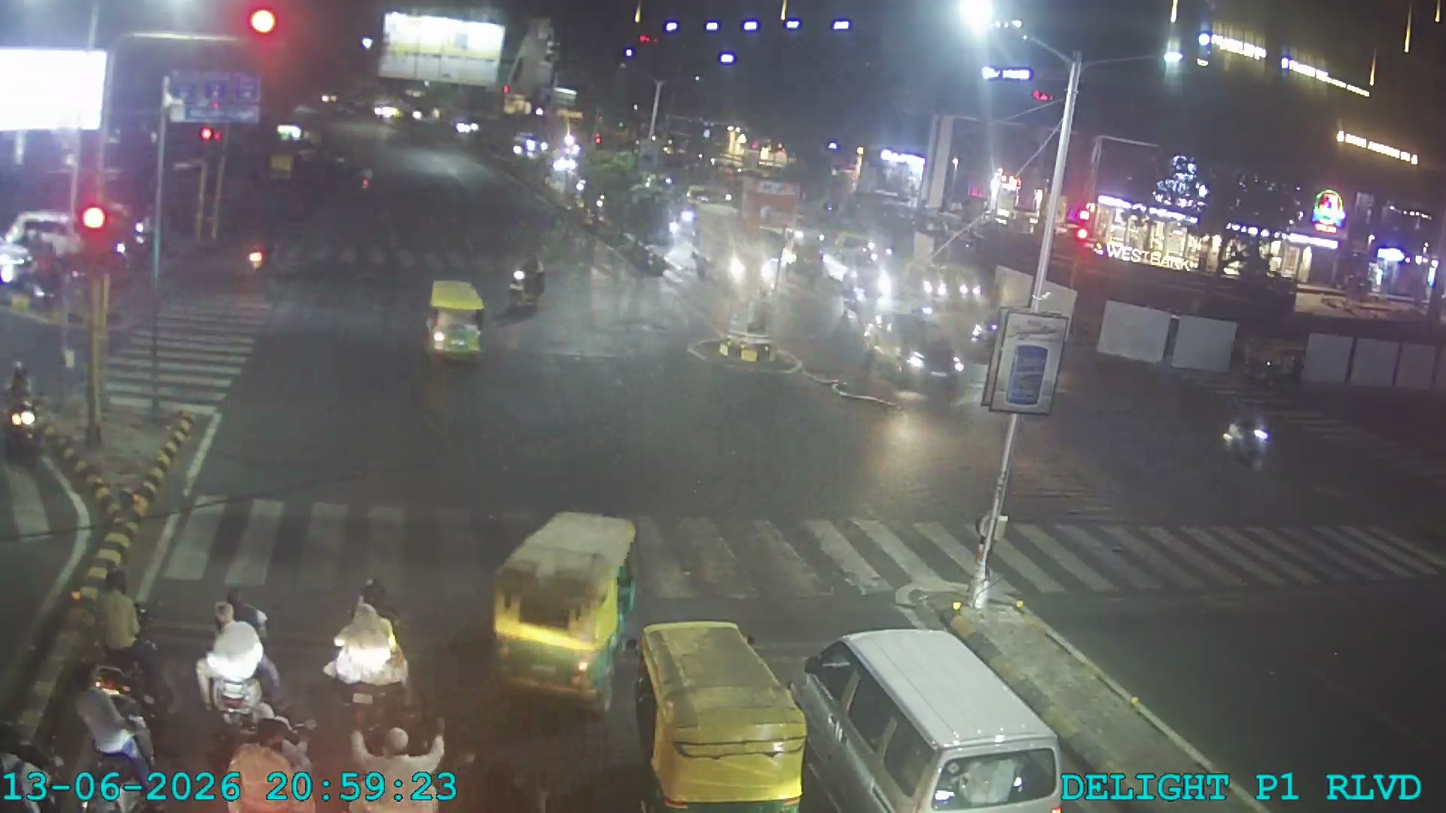auto_rickshaw: (626, 609, 810, 804), (485, 501, 643, 716), (423, 275, 489, 362), (1238, 338, 1309, 389)
car: (904, 343, 966, 386)
two_wheeler: (187, 588, 287, 727), (1212, 393, 1280, 476), (501, 243, 549, 322), (239, 221, 275, 282)
